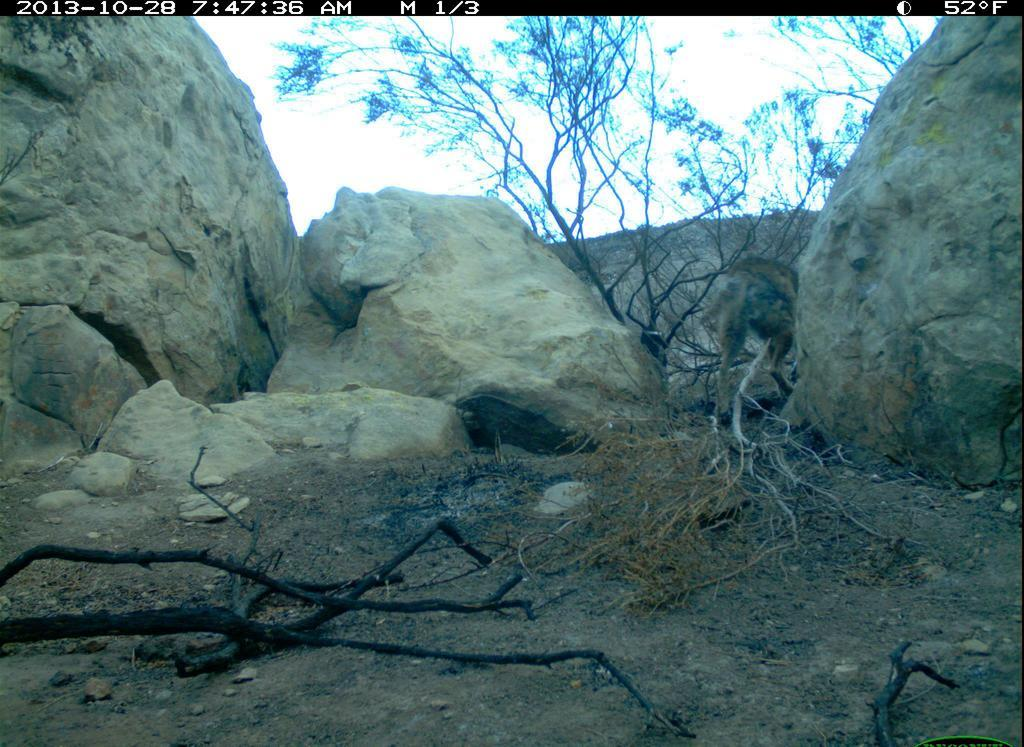coyote: (694, 240, 821, 449)
